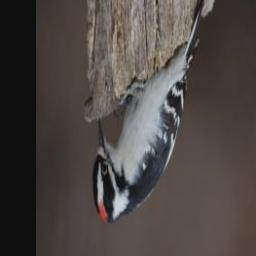Woodpecker: (91, 0, 209, 228)
